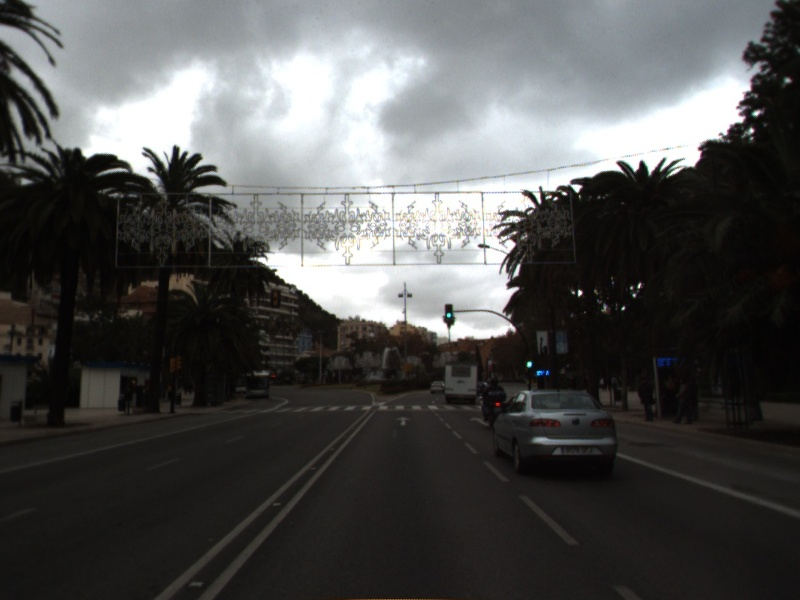STRAIGHT: (468, 414, 492, 427), (393, 414, 413, 428)
